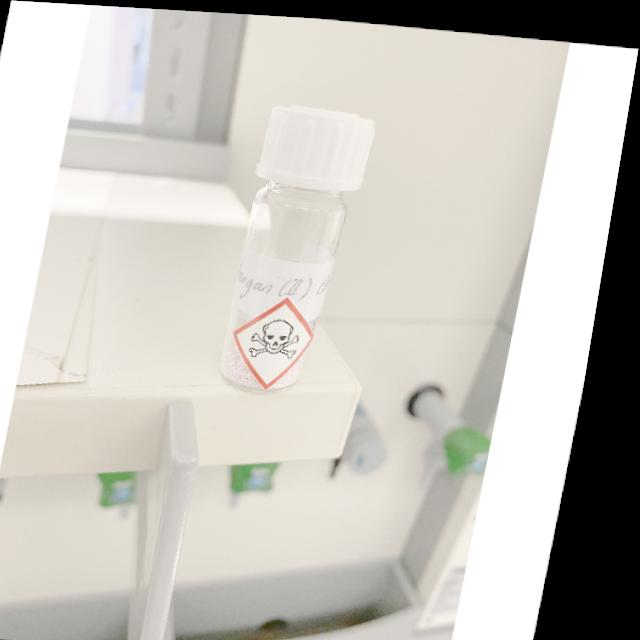acute toxicity: (258, 313, 316, 358)
